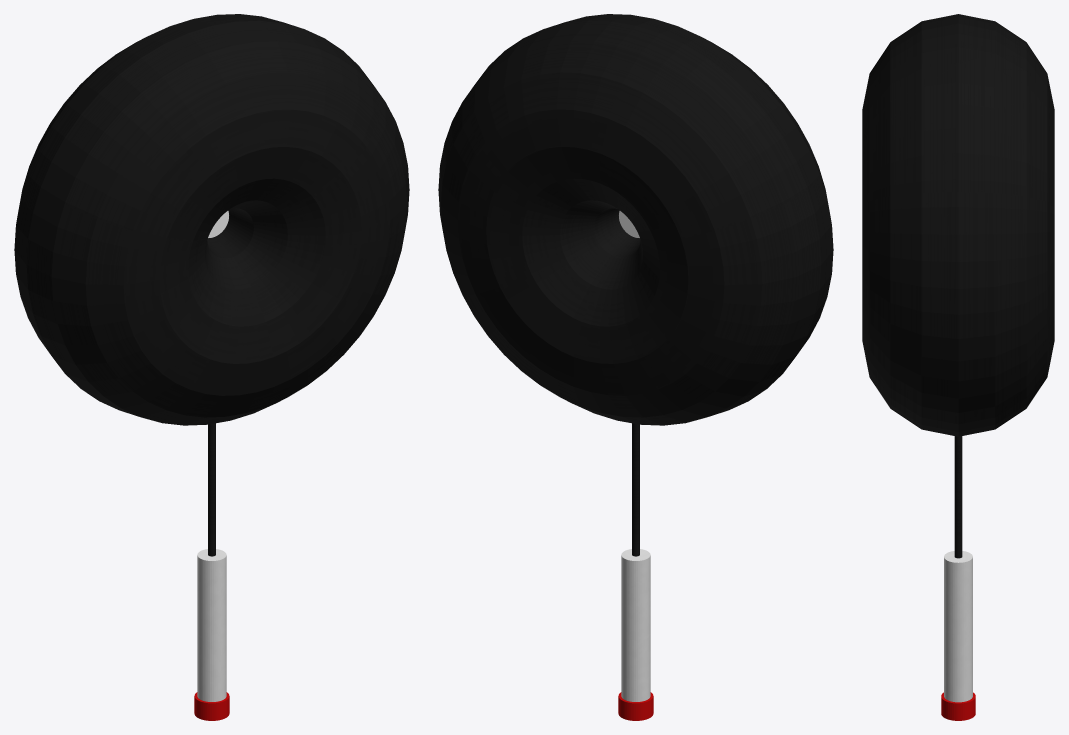
The picture shows the model from 3 angles, left to right: view 1: azimuth 30°, elevation 25°; view 2: azimuth 150°, elevation 25°; view 3: azimuth 270°, elevation 25°; orthographic projection.
Parts seen in each view (by area): view 1: part_1, part_5, part_3, part_4; view 2: part_1, part_5, part_3, part_4; view 3: part_1, part_5, part_3, part_4.
Boxes of the visible parts, bbox=[...] form: part_1: bbox=[14, 14, 409, 425]; part_5: bbox=[197, 549, 226, 701]; part_3: bbox=[208, 423, 215, 556]; part_4: bbox=[194, 692, 229, 720]; part_1: bbox=[438, 14, 833, 425]; part_5: bbox=[621, 549, 650, 701]; part_3: bbox=[632, 423, 639, 556]; part_4: bbox=[618, 692, 653, 720]; part_1: bbox=[862, 14, 1054, 436]; part_5: bbox=[944, 551, 972, 702]; part_3: bbox=[954, 436, 962, 558]; part_4: bbox=[941, 692, 975, 720].
Size of the model in its own units: 0.5641 by 1 by 0.2564.
4 materials, 4 textured.
